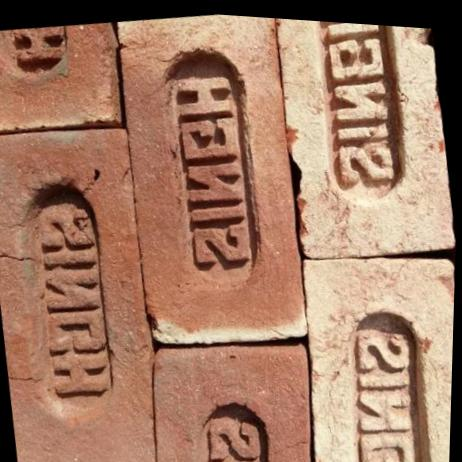brick: (105, 8, 323, 357), (0, 119, 173, 462), (271, 19, 462, 271), (290, 241, 455, 462), (139, 332, 323, 462), (0, 14, 124, 143)
